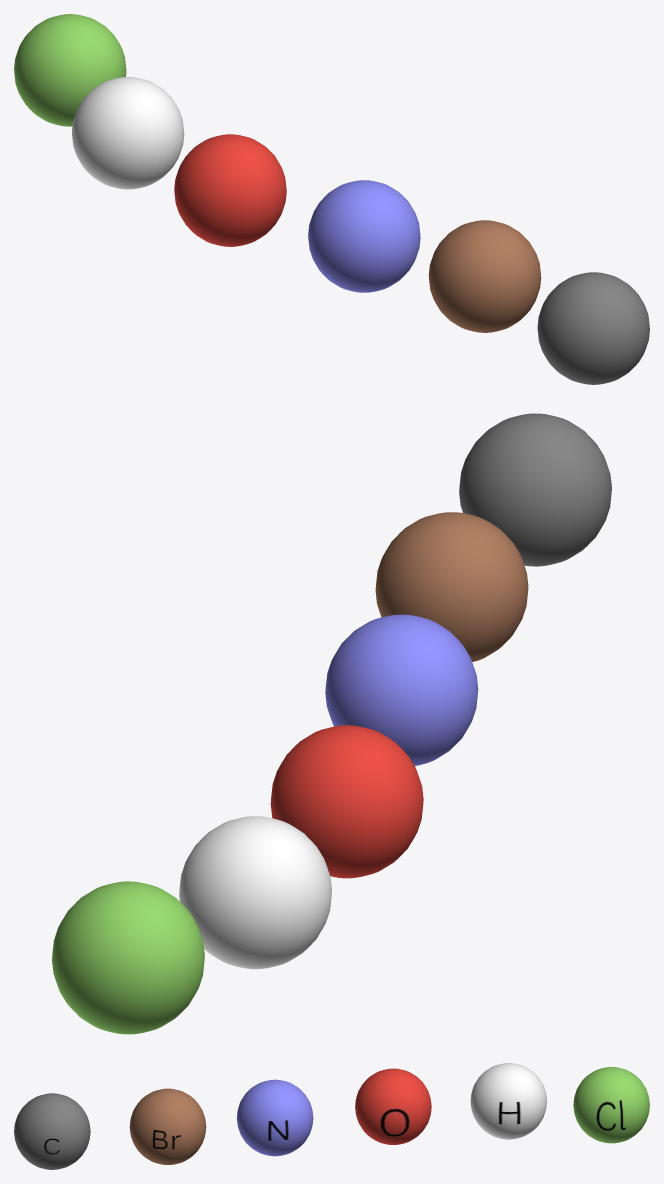
Rendered from elements.fbx.
The picture shows the model from 3 angles, top to bottom: view 1: azimuth 30°, elevation 25°; view 2: azimuth 150°, elevation 25°; view 3: azimuth 270°, elevation 25°; orthographic projection. The views are drawn at different scales.
Parts seen in each view (by area): view 1: Sphere.002, Sphere.004, Sphere, Sphere.003, Sphere.001, Sphere.005; view 2: Sphere.005, Sphere.003, Sphere.004, Sphere.002, Sphere, Sphere.001; view 3: Sphere.004, Sphere, Sphere.001, Sphere.003, Sphere.002, Sphere.005.
Boxes of the visible parts, x1=… form: Sphere.002: x1=174, y1=134, x2=286, y2=246; Sphere.004: x1=537, y1=272, x2=649, y2=384; Sphere: x1=308, y1=180, x2=420, y2=292; Sphere.003: x1=72, y1=77, x2=184, y2=189; Sphere.001: x1=428, y1=220, x2=541, y2=332; Sphere.005: x1=14, y1=14, x2=126, y2=126; Sphere.005: x1=52, y1=881, x2=204, y2=1034; Sphere.003: x1=179, y1=816, x2=331, y2=969; Sphere.004: x1=459, y1=413, x2=611, y2=566; Sphere.002: x1=270, y1=725, x2=423, y2=878; Sphere: x1=325, y1=614, x2=478, y2=765; Sphere.001: x1=375, y1=512, x2=528, y2=661; Sphere.004: x1=14, y1=1093, x2=90, y2=1169; Sphere: x1=237, y1=1079, x2=313, y2=1156; Sphere.001: x1=129, y1=1088, x2=206, y2=1164; Sphere.003: x1=470, y1=1063, x2=546, y2=1139; Sphere.002: x1=355, y1=1068, x2=431, y2=1144; Sphere.005: x1=573, y1=1067, x2=649, y2=1143.
Size of the model in its own units: 466 by 237 by 1660.
